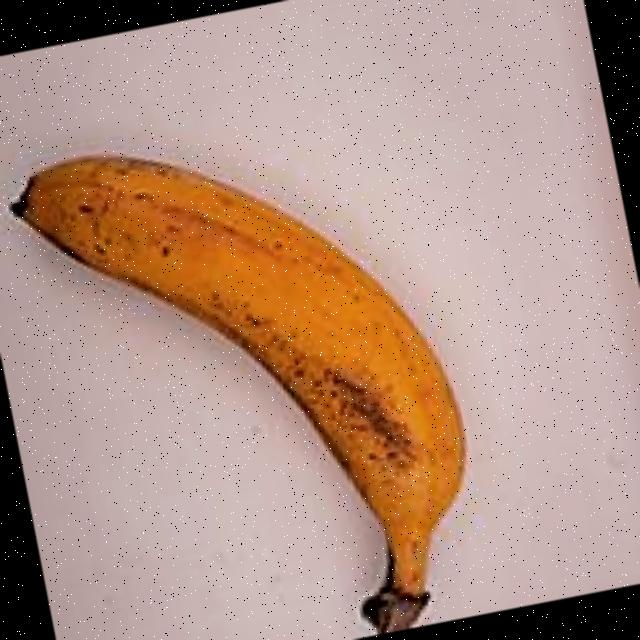Overripe: (0, 22, 521, 640)
